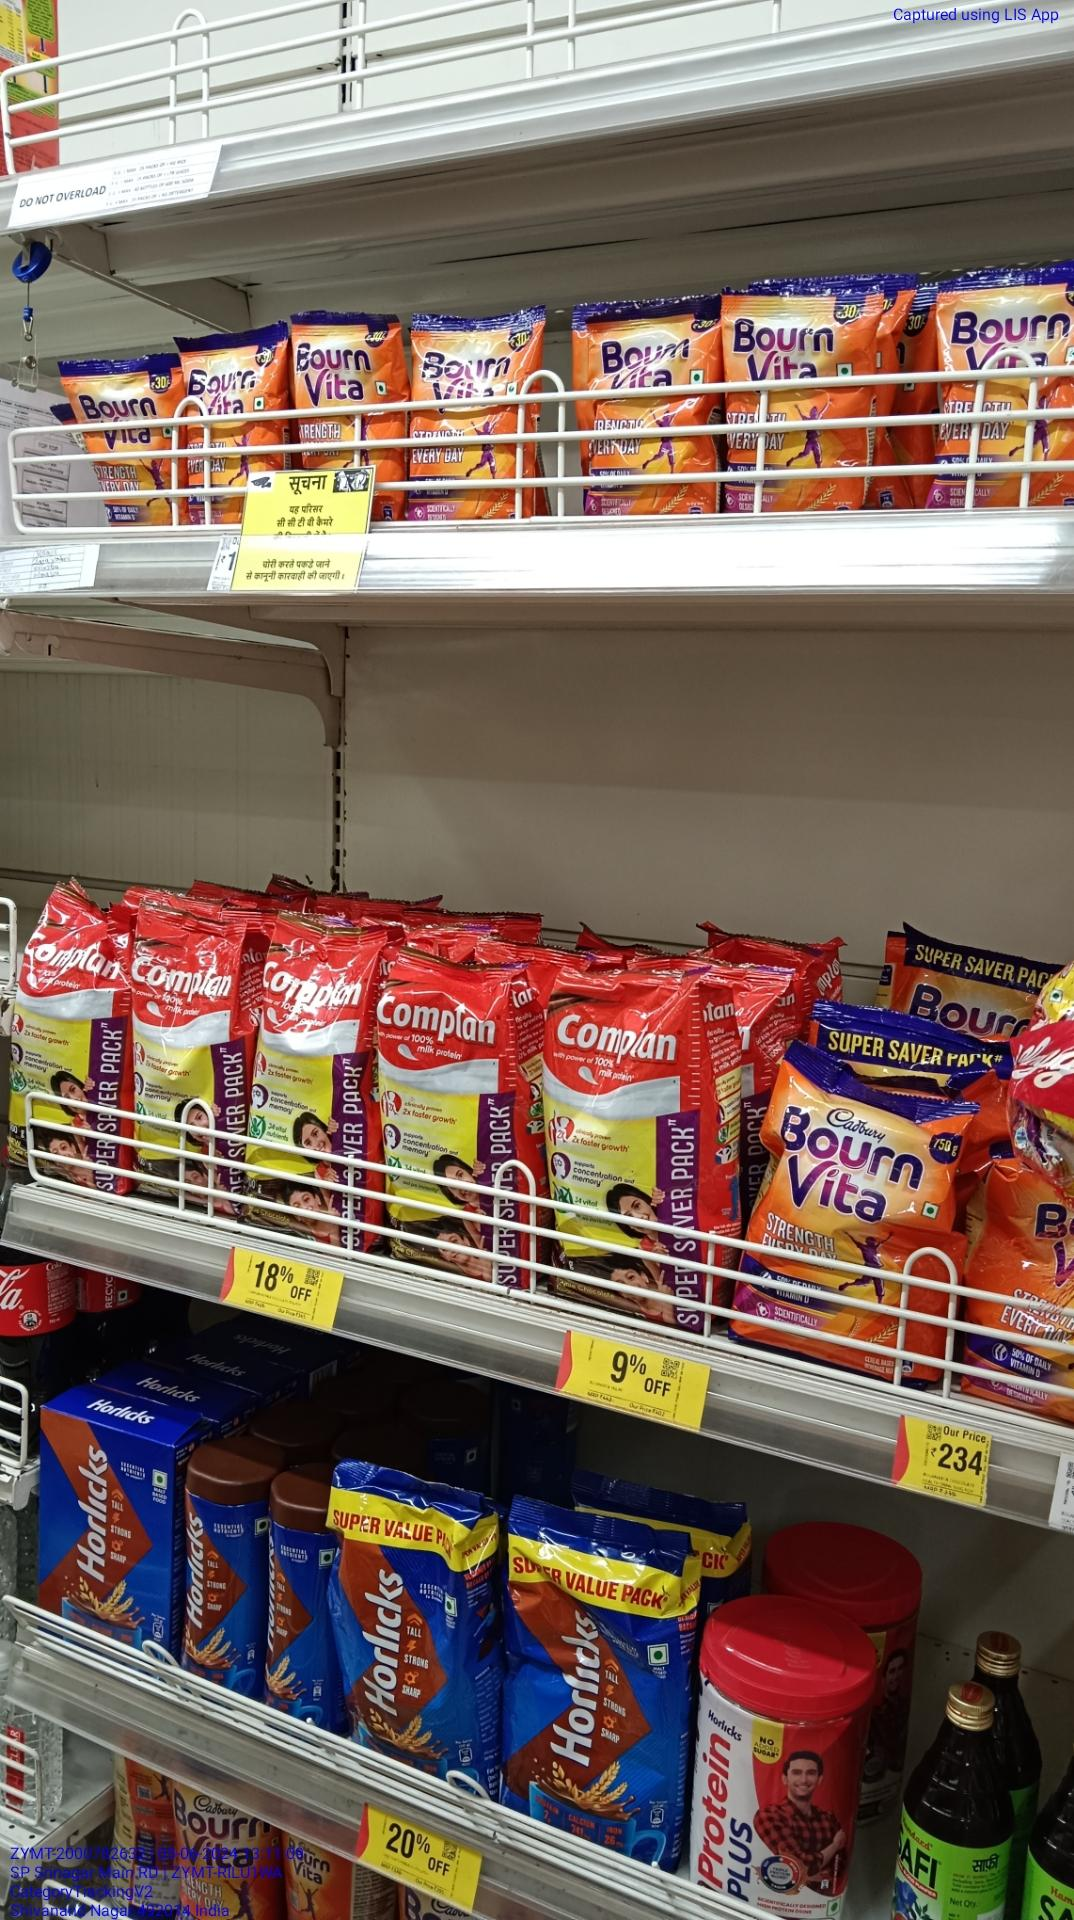BOURN_VITA_75_G_POUCH: (935, 272, 1074, 521), (569, 299, 722, 520), (730, 293, 876, 518), (402, 319, 537, 526), (67, 357, 183, 530), (288, 306, 388, 491), (189, 328, 274, 525)
HORLICK_CHOCOLATE_500_G_JAR: (263, 1494, 338, 1745), (185, 1472, 252, 1710)
HORLICK_CHOCOLATE_500_G_PACK: (32, 1407, 168, 1671)
HORLICK_CHOCOLATE_750_G_POUCH: (511, 1515, 683, 1870), (339, 1480, 484, 1780)
